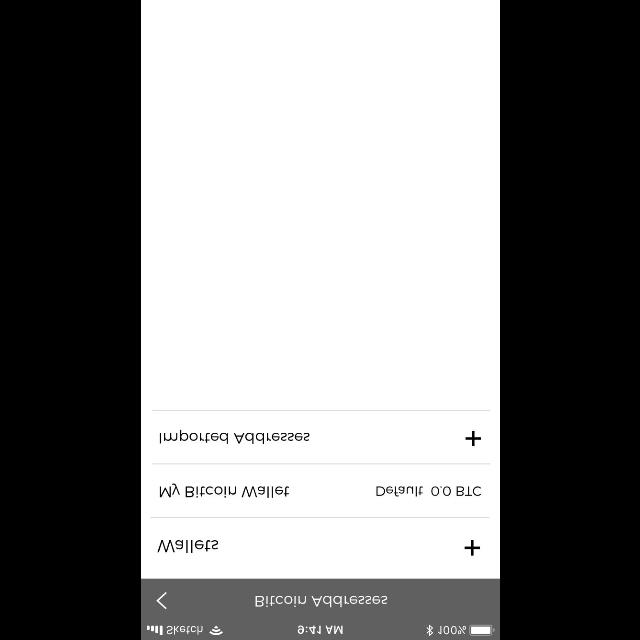icon: (464, 431, 482, 445), (464, 540, 480, 554), (155, 592, 167, 608)
text: (158, 430, 310, 444), (158, 482, 288, 498), (255, 594, 388, 608), (375, 484, 481, 498), (156, 539, 218, 553)
uppertaskbar: (140, 623, 500, 639)
